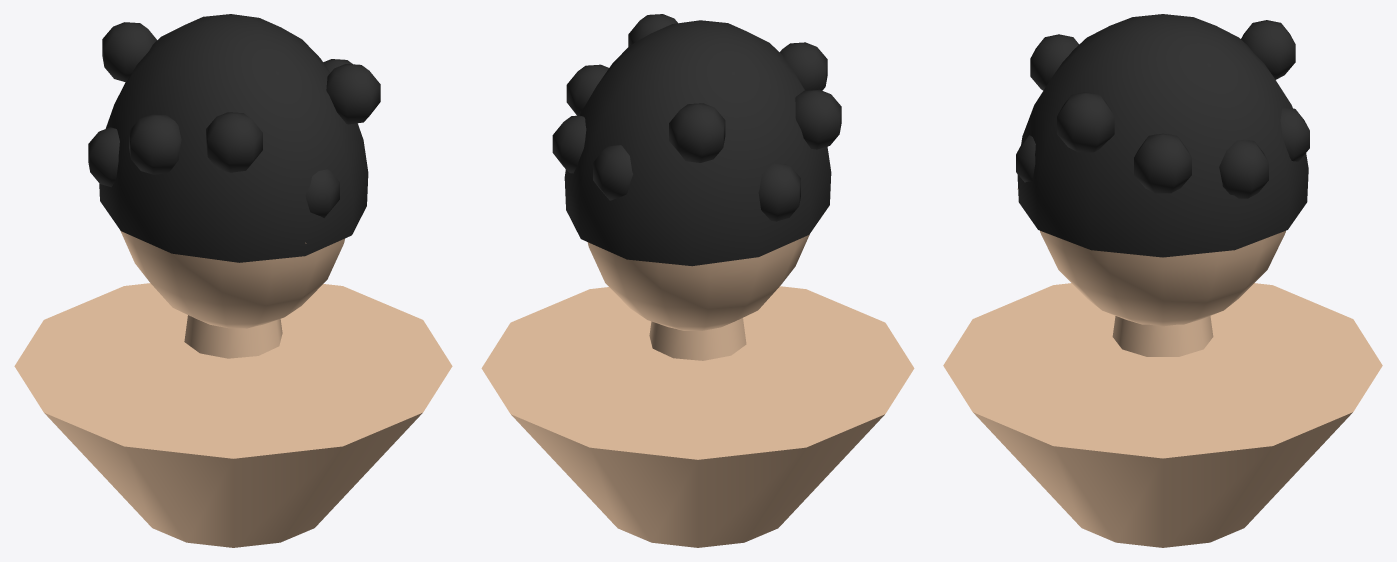
The model's file is raw_001.glb.
The picture shows the model from 3 angles, left to right: view 1: azimuth 30°, elevation 25°; view 2: azimuth 150°, elevation 25°; view 3: azimuth 270°, elevation 25°; orthographic projection.
Bounding box in the file's own units: 1.83 × 2.23 × 1.83.
